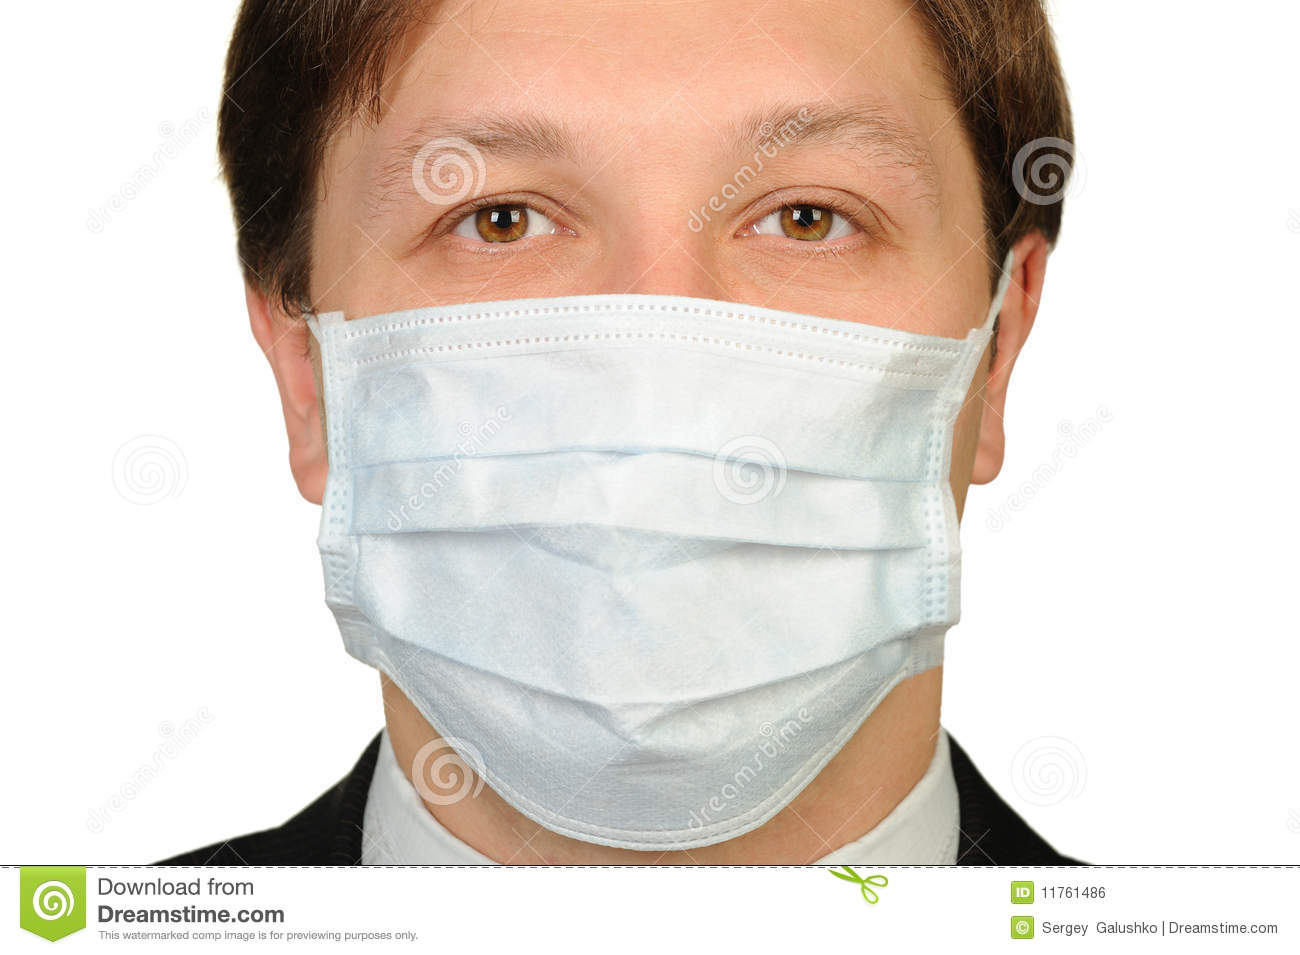mask: (329, 299, 961, 849)
